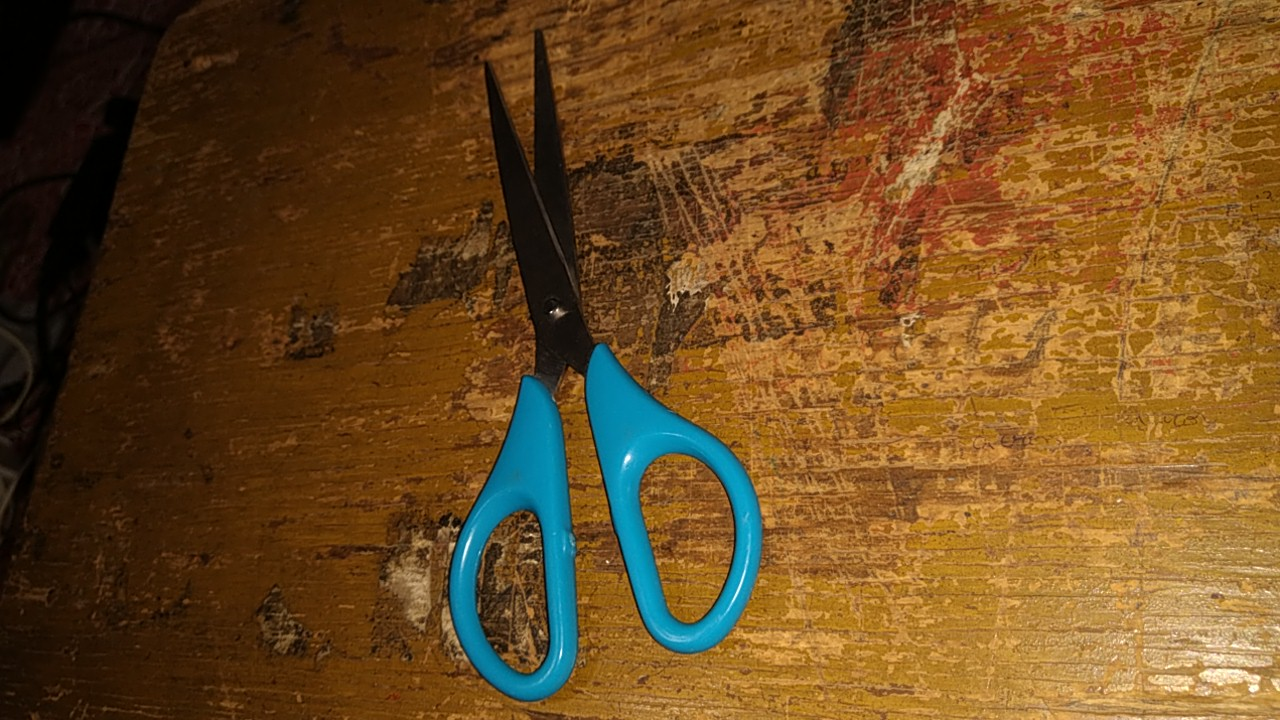scissor: (409, 21, 846, 707)
